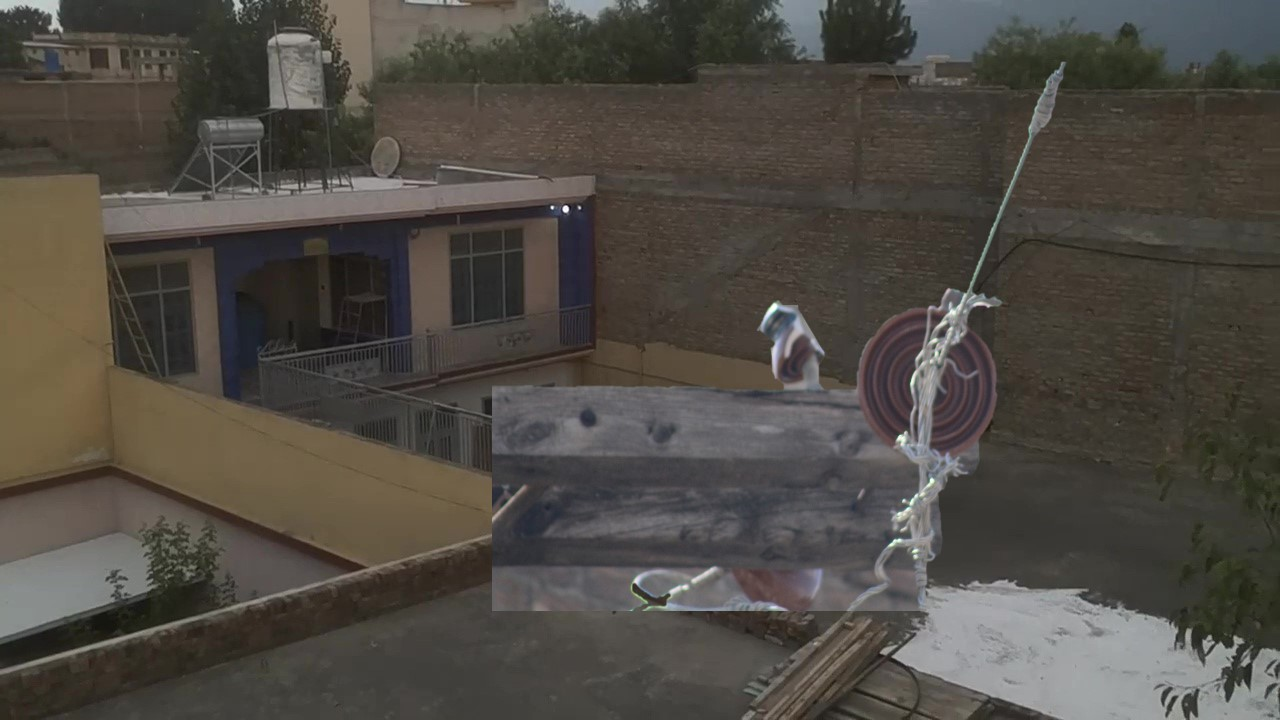defect_pin: (753, 291, 831, 398)
insulator_disc: (852, 298, 1005, 455)
